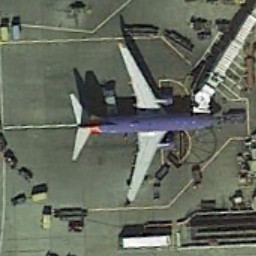Airplane: (51, 29, 231, 207)
